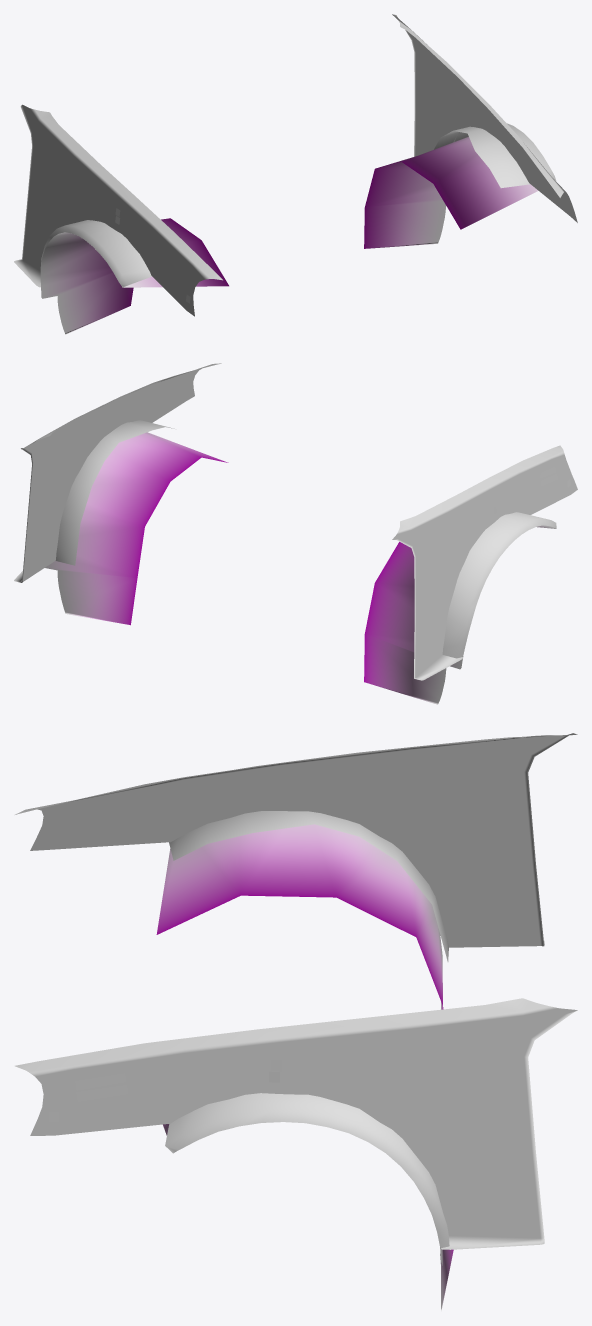
File: Car_Nissan_SkylineGTRVspecR34_1999_FendersChassisF_SetA_AltB.fbx
The picture shows the model from 3 angles, top to bottom: view 1: azimuth 30°, elevation 25°; view 2: azimuth 150°, elevation 25°; view 3: azimuth 270°, elevation 25°; orthographic projection. The views are drawn at different scales.
Parts seen in each view (by area): view 1: FendersChassisF 6; view 2: FendersChassisF 6; view 3: FendersChassisF 6.
Part boxes in pixels (x1,y1,x2,y2): FendersChassisF 6: [14, 14, 577, 334]; FendersChassisF 6: [14, 363, 577, 704]; FendersChassisF 6: [15, 733, 577, 1310].
Bounding box in the file's own units: 1.77 × 0.7743 × 1.3.
